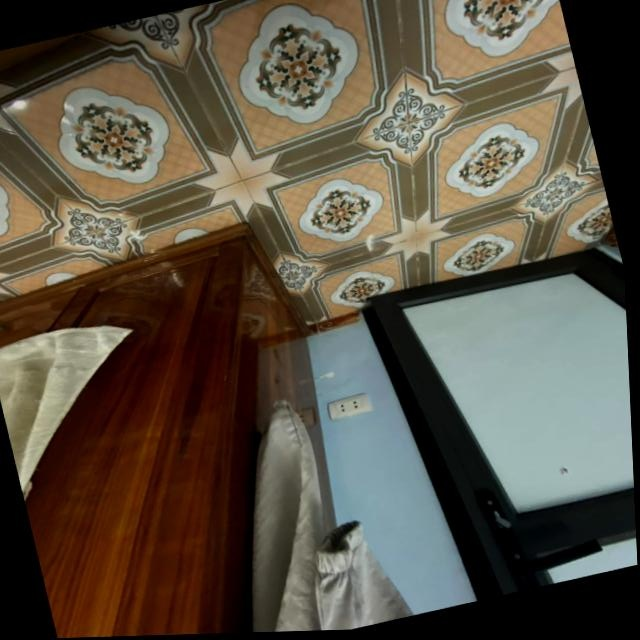outlet: (325, 392, 372, 422)
